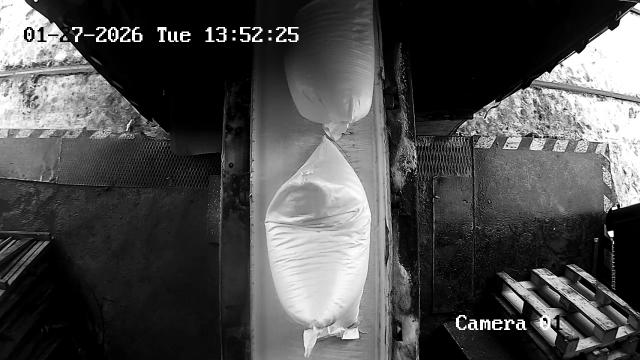bag: (265, 140, 370, 358), (286, 0, 375, 140)
